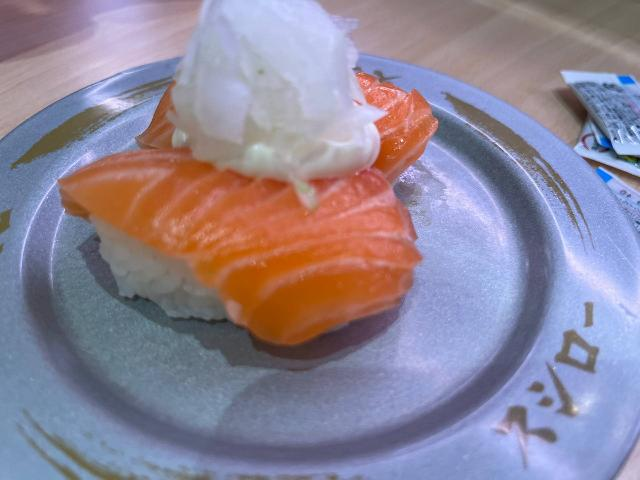janwhite: (41, 87, 582, 446)
